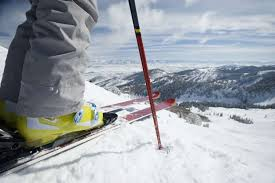skis: (1, 90, 178, 172)
